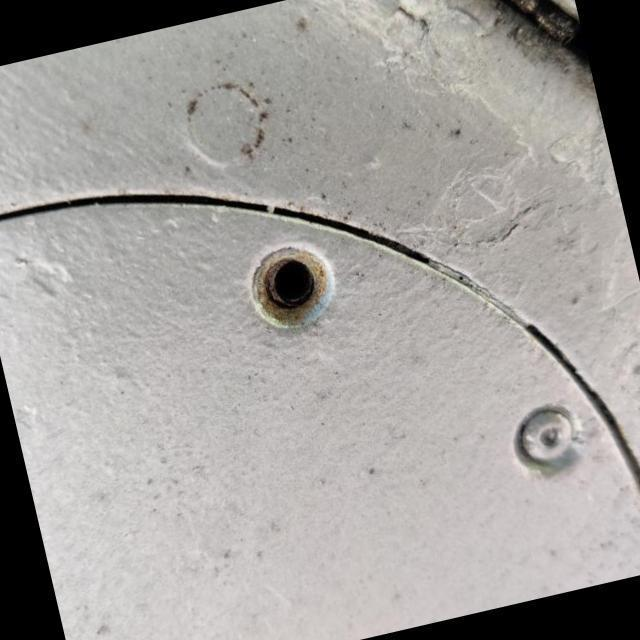Fastener Damage: (195, 192, 384, 374)
